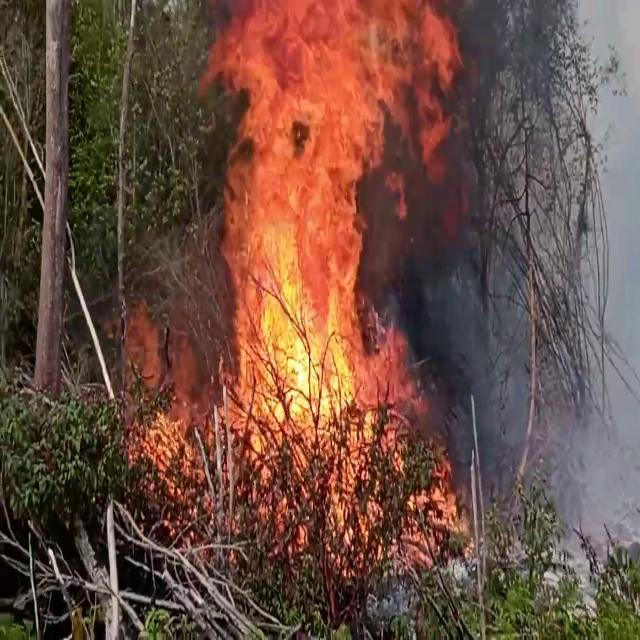Fire: (202, 0, 462, 515), (119, 284, 207, 503)
Smoke: (400, 0, 640, 573)
